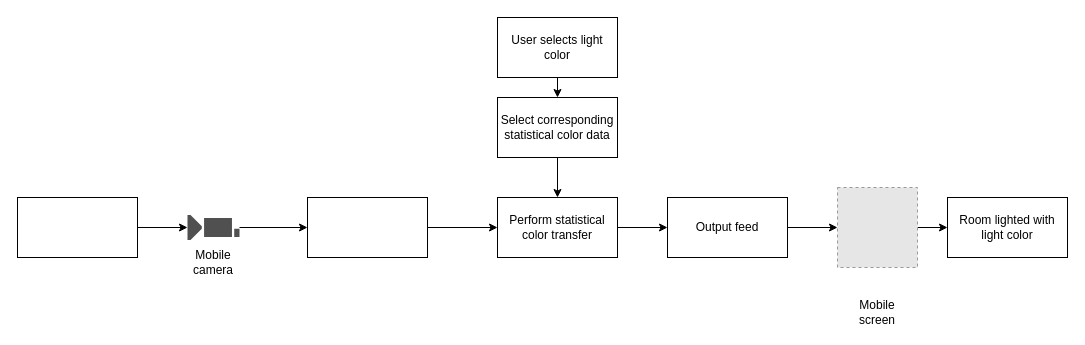
Some shapes in this 1085 by 345 pixel diagram are drawn without their labels. Grey dashed boxes stand in for pictures. Here are the shapes that lost their labels. From the top down, the box of each, then its label:
(16, 196, 138, 258): Room
(306, 196, 428, 258): Input video feed
